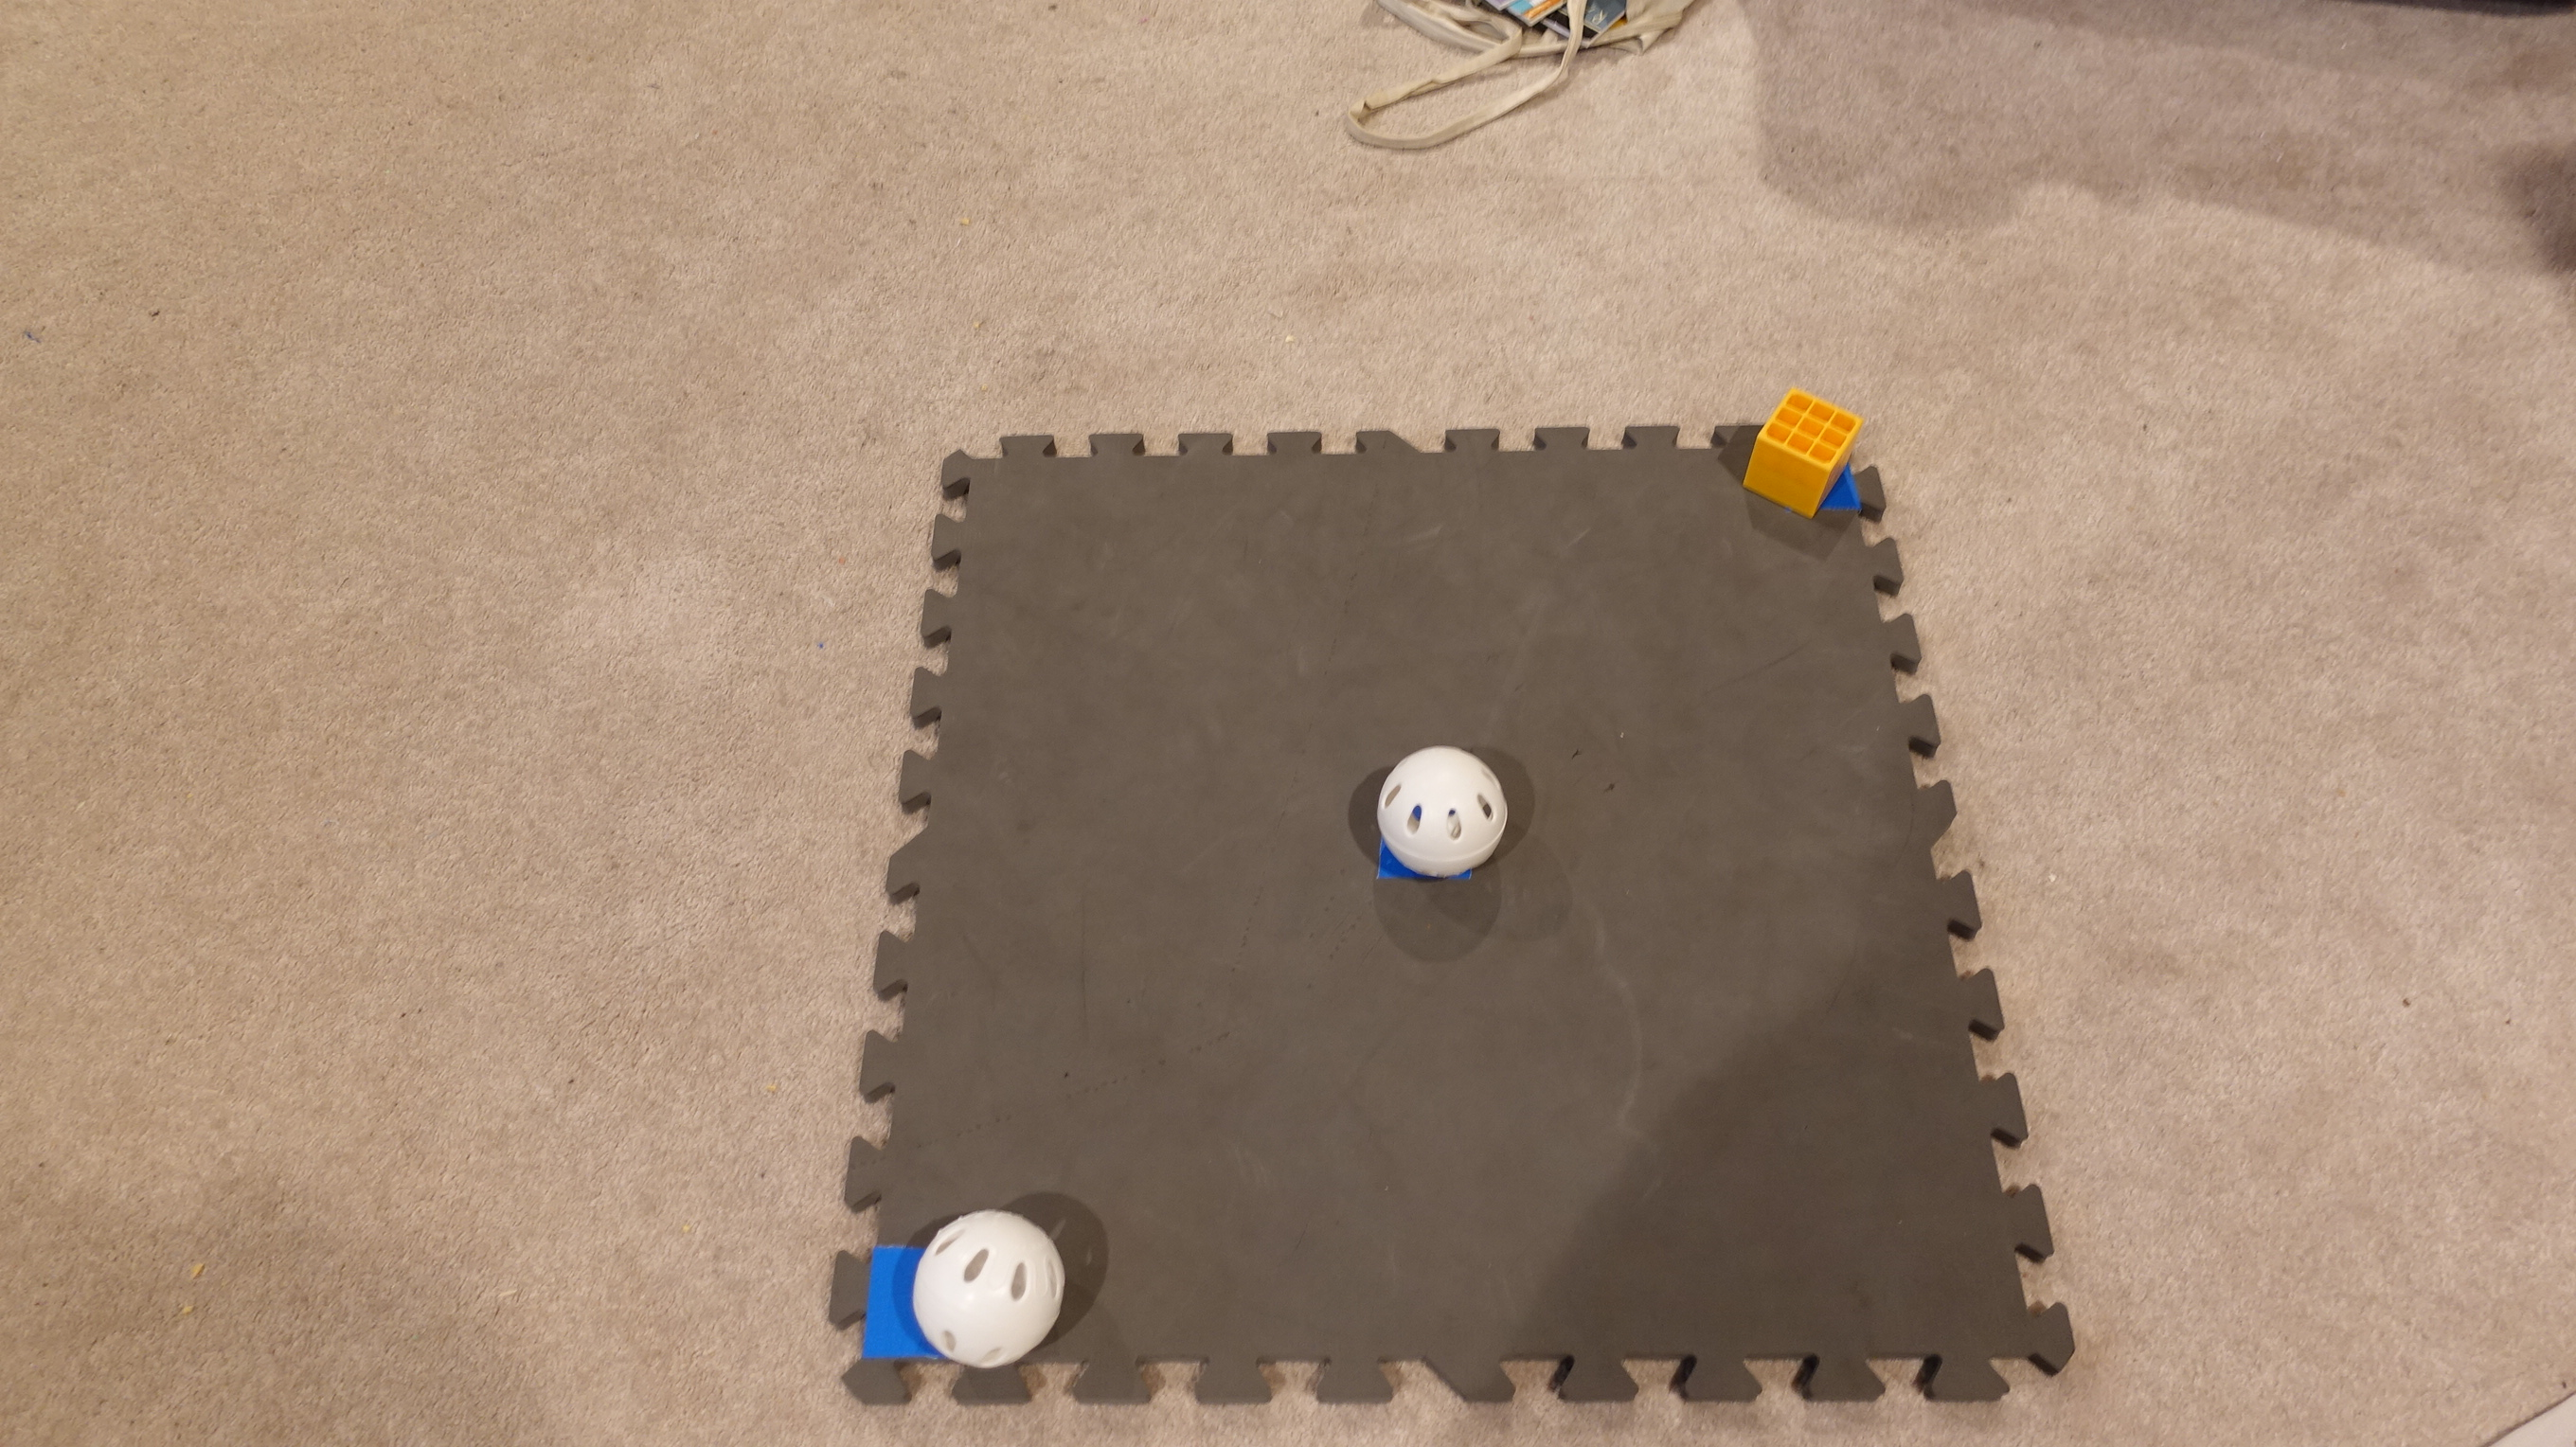gold: (1732, 379, 1877, 522)
silver: (904, 1212, 1079, 1371), (1371, 729, 1525, 895)
